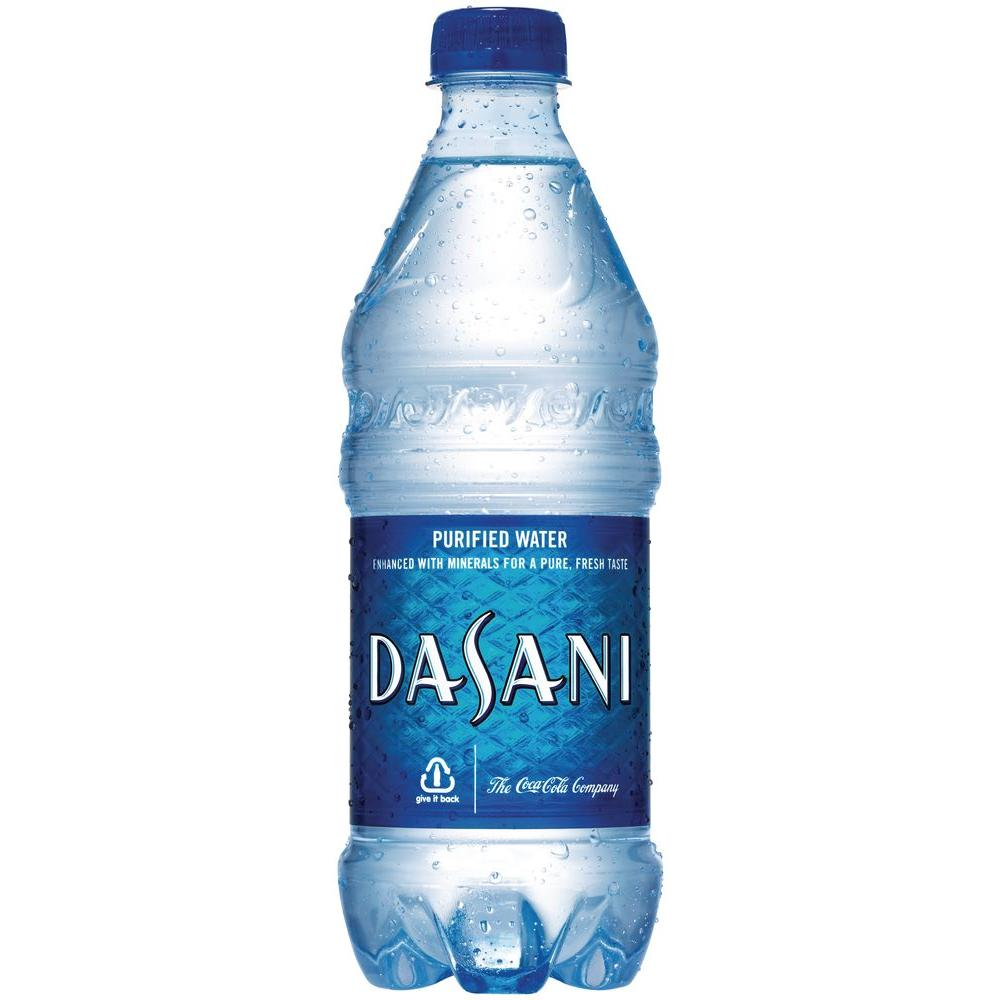Rec_Plastic: (291, 15, 667, 978)
